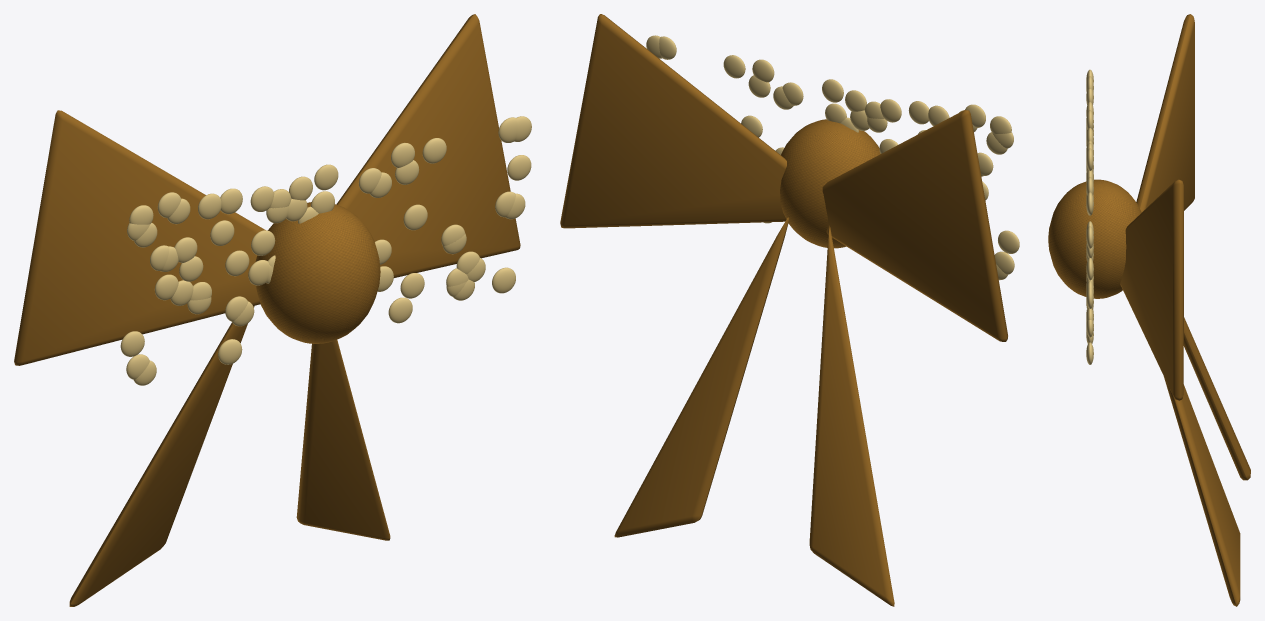
Rendered from accessory-gothic-hair.glb.
3 renders of one model, left to right at view 1: azimuth 30°, elevation 25°; view 2: azimuth 150°, elevation 25°; view 3: azimuth 270°, elevation 25°, orthographic. The views are drawn at different scales.
Parts seen in each view (by area): view 1: Hair ribbon; view 2: Hair ribbon; view 3: Hair ribbon.
Part boxes in pixels (box(x1,y1,x2,y2)): Hair ribbon: box(14, 14, 531, 606); Hair ribbon: box(560, 14, 1019, 606); Hair ribbon: box(1048, 14, 1250, 606).
Bounding box in the file's own units: 0.1255 × 0.1296 × 0.0532.
Materials: 2 (1 with a texture image).
